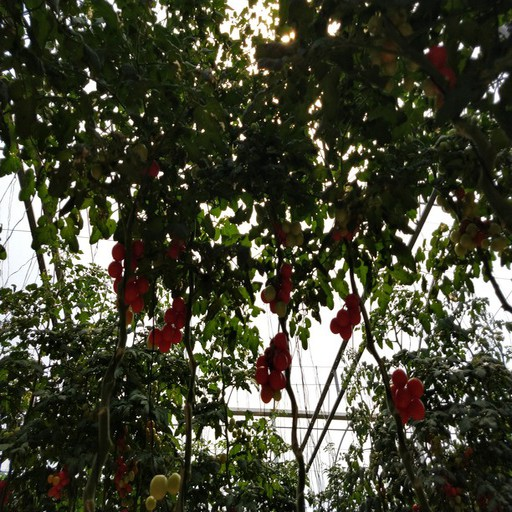green tomato bunch: (146, 473, 181, 512)
mixed tomato bunch: (359, 13, 456, 106), (445, 185, 504, 256), (69, 143, 159, 175), (261, 262, 296, 317), (112, 435, 138, 491), (272, 216, 307, 248), (335, 208, 362, 242)
red tomato bunch: (111, 241, 152, 323), (257, 333, 292, 403), (149, 296, 187, 353), (386, 371, 426, 424), (330, 294, 363, 336), (46, 465, 69, 501)
